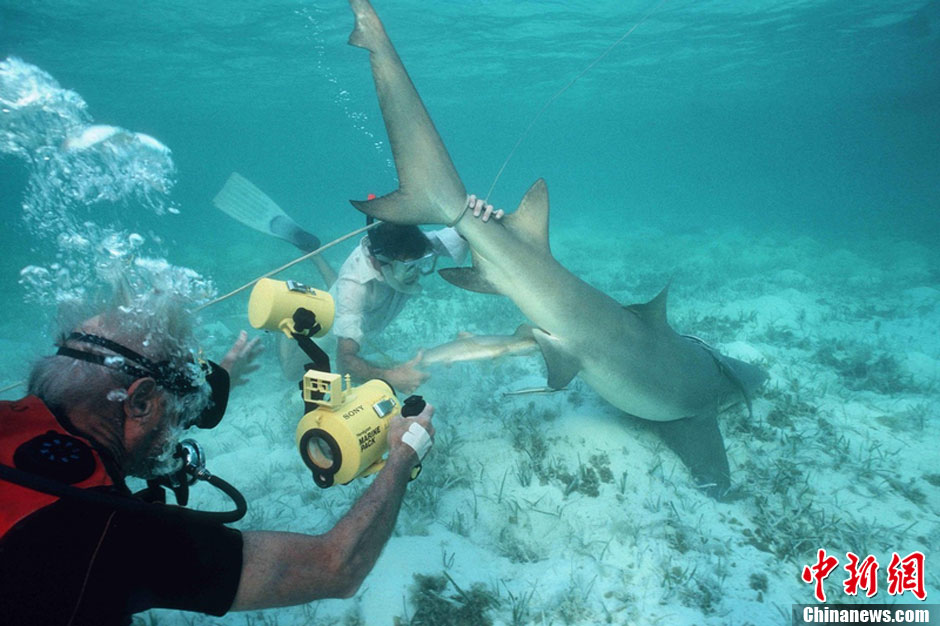shark: (335, 3, 784, 486)
